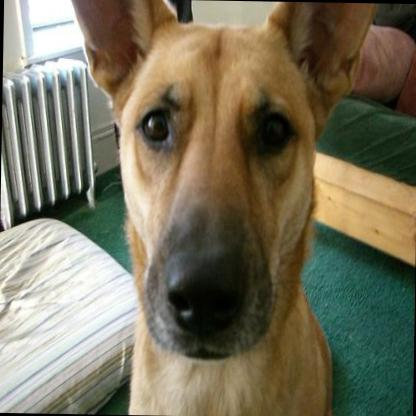malinois: (61, 0, 377, 416)
